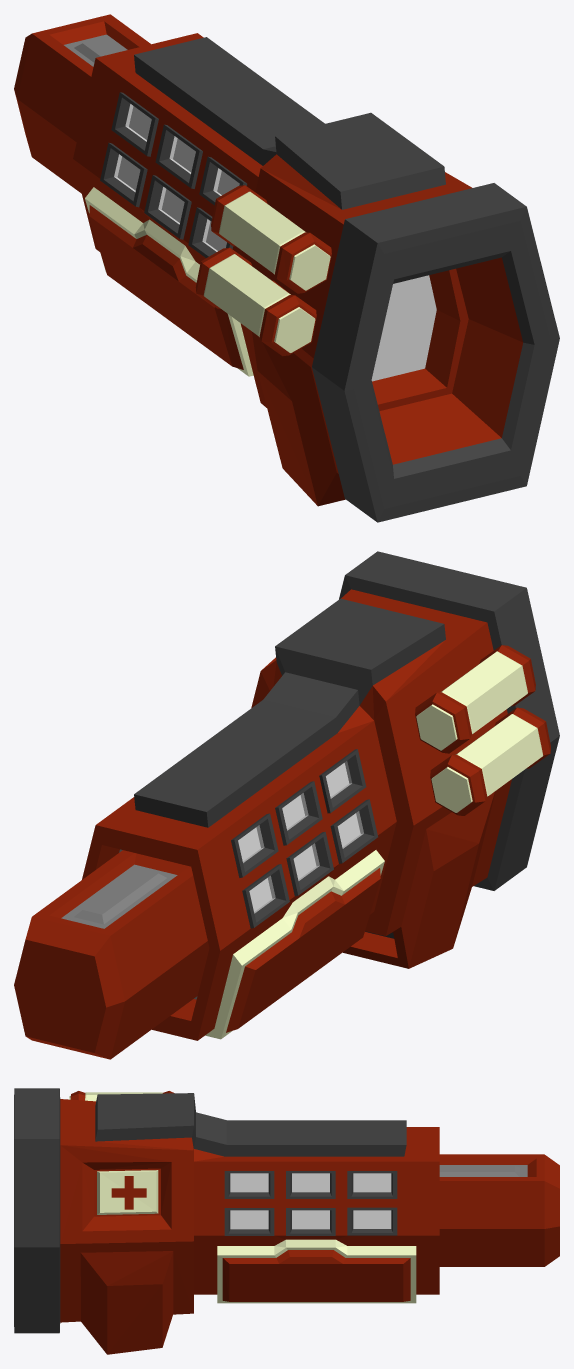
Rendered from LPSP_MedicalFrigate.fbx.
The picture shows the model from 3 angles, top to bottom: view 1: azimuth 30°, elevation 25°; view 2: azimuth 150°, elevation 25°; view 3: azimuth 270°, elevation 25°; orthographic projection. The views are drawn at different scales.
Parts seen in each view (by area): view 1: Cube; view 2: Cube; view 3: Cube.
Boxes of the visible parts, x1,y1,x2,y2 form: Cube: (14, 14, 559, 522); Cube: (14, 551, 559, 1059); Cube: (14, 1088, 559, 1354).
Size of the model in its own units: 897 by 1087 by 2417.
